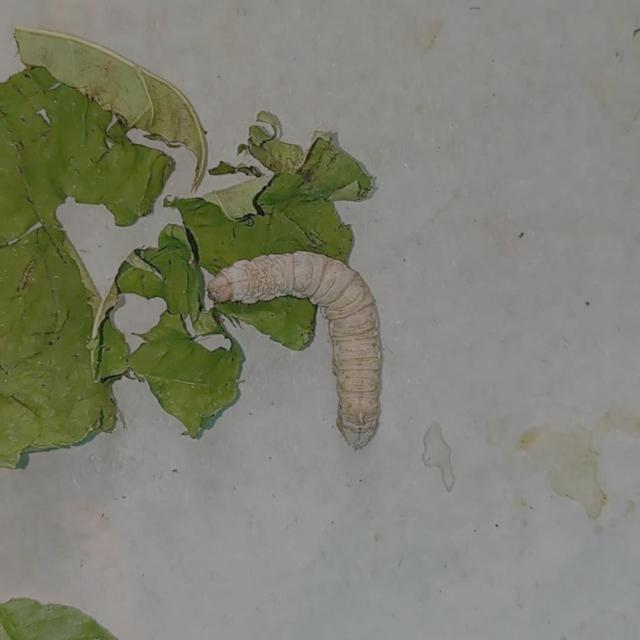Grasserie: (200, 237, 402, 456)
